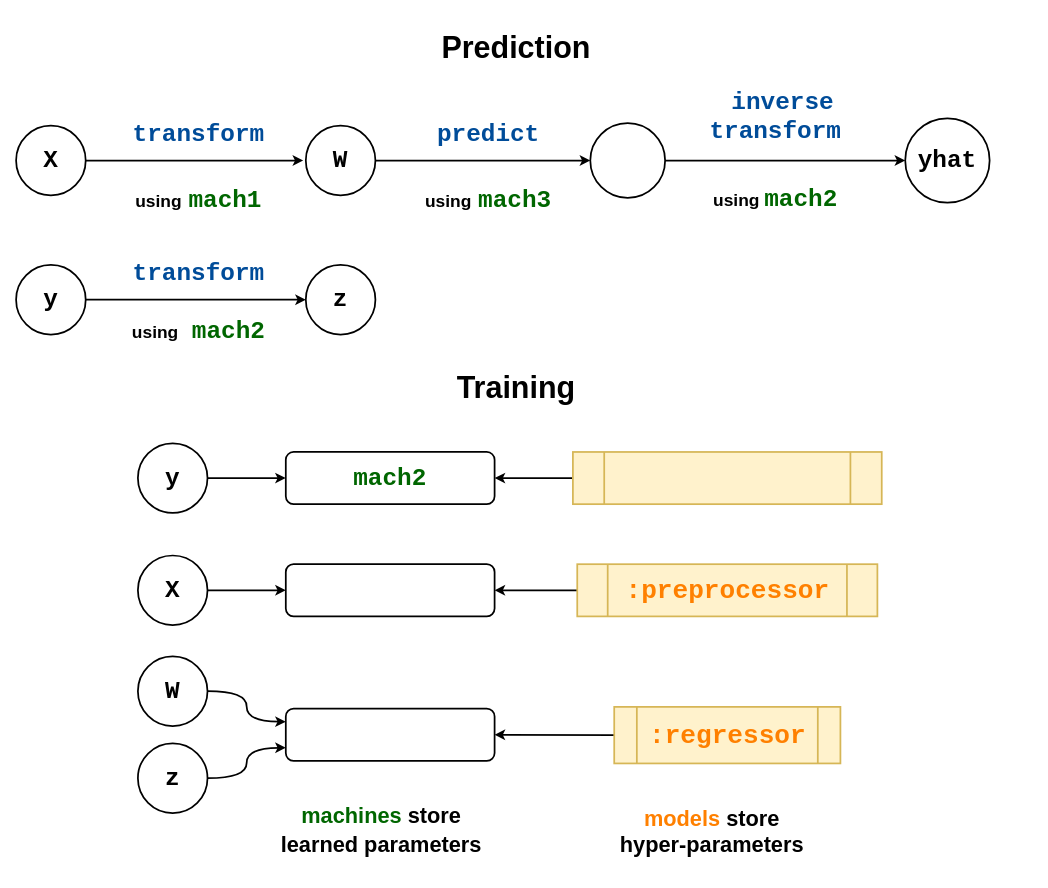
This 1048x888 diagram has some shape labels left out. Here are the shapes that lost their labels. From the top down, the box of each, then its label:
(589, 122, 666, 198): zhat
(572, 451, 882, 505): :target_transf
(284, 563, 495, 617): mach1
(284, 707, 495, 761): mach3
